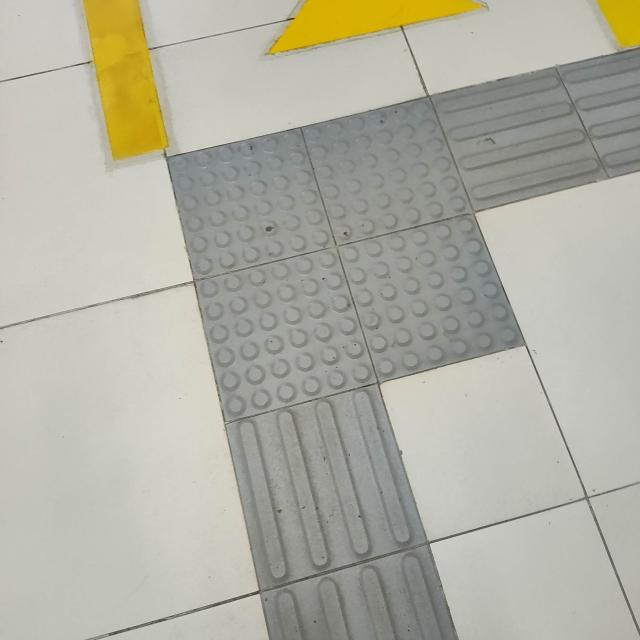kanan: (88, 89, 640, 413)
